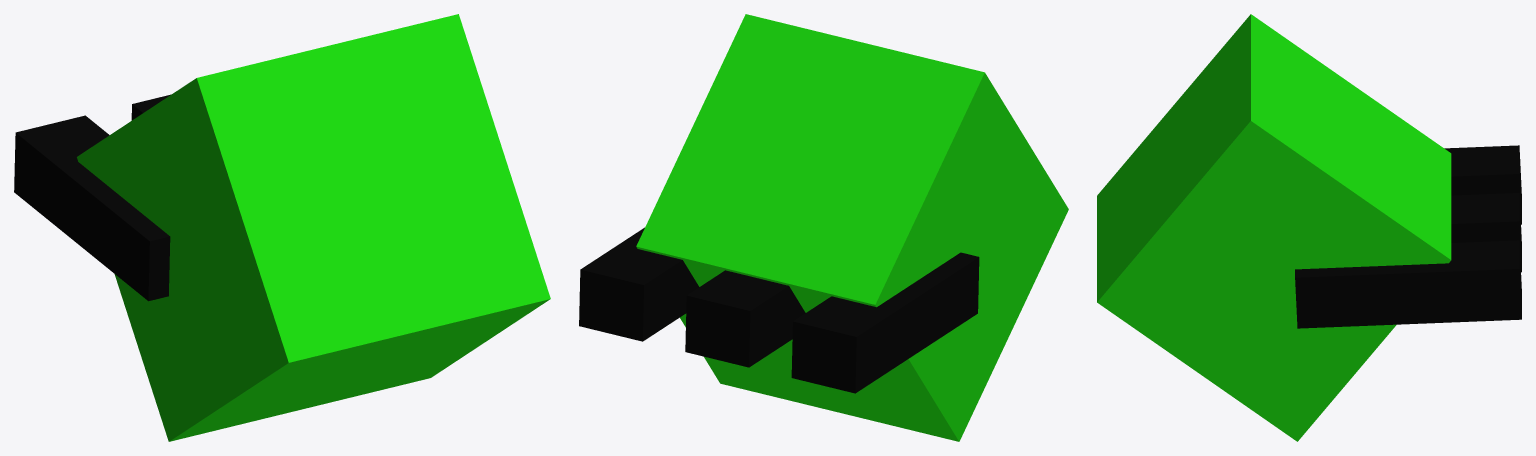
File: Grappling_Hook.gltf
3 views of the same model, side by side, from view 1: azimuth 30°, elevation 25°; view 2: azimuth 150°, elevation 25°; view 3: azimuth 270°, elevation 25° (orthographic). The views are drawn at different scales.
Parts seen in each view (by area): view 1: cuboid (×2); view 2: cuboid (×4); view 3: cuboid (×4).
Boxes of the visible parts, x1,y1,x2,y2 form: cuboid (×2): (14, 14, 550, 441); cuboid (×4): (579, 14, 1068, 441); cuboid (×4): (1097, 14, 1521, 441).
Bounding box in the file's own units: 0.325 × 0.3943 × 0.4728.
Materials: 1 (1 with a texture image).
